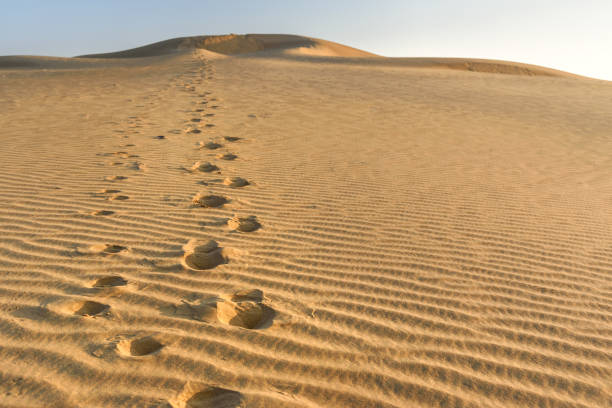human_footprint: (160, 289, 275, 328), (182, 289, 274, 328), (216, 289, 274, 328), (217, 289, 274, 328), (214, 291, 266, 327), (170, 382, 244, 407), (160, 297, 217, 322), (182, 240, 227, 269), (217, 301, 263, 328), (185, 387, 243, 407), (47, 299, 109, 316), (116, 336, 164, 356), (72, 300, 109, 315), (227, 216, 261, 232), (77, 244, 128, 254), (193, 193, 227, 207), (92, 275, 127, 287), (231, 289, 263, 301), (90, 244, 127, 253), (109, 160, 145, 169), (190, 161, 218, 172), (223, 176, 249, 187), (96, 151, 129, 158), (198, 141, 222, 149), (127, 161, 146, 171), (112, 151, 138, 158), (216, 152, 237, 160), (127, 116, 142, 127), (96, 189, 120, 195), (105, 175, 127, 181), (198, 179, 220, 185), (108, 194, 129, 200), (90, 210, 114, 215), (183, 83, 195, 91), (224, 136, 240, 141), (113, 129, 125, 135), (197, 99, 207, 106), (187, 128, 201, 133), (167, 129, 181, 134), (109, 161, 123, 165), (125, 154, 139, 158), (153, 135, 165, 139), (190, 118, 201, 122), (210, 105, 220, 109), (204, 123, 214, 127), (194, 108, 204, 112), (121, 143, 134, 146), (247, 114, 256, 118), (204, 91, 211, 96), (206, 74, 213, 79), (203, 113, 214, 116), (200, 100, 207, 104), (210, 97, 217, 101)
